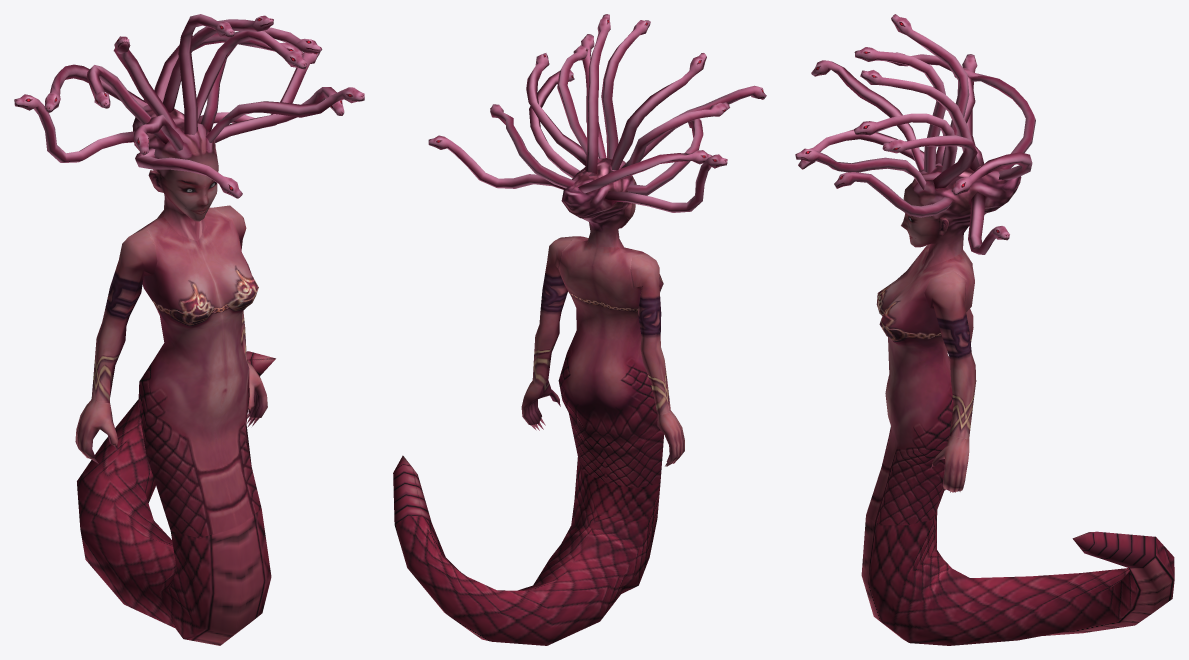
Rendered from Medusa.fbx.
3 views of the same model, side by side, from view 1: azimuth 30°, elevation 25°; view 2: azimuth 150°, elevation 25°; view 3: azimuth 270°, elevation 25° (orthographic). The views are drawn at different scales.
Parts seen in each view (by area): view 1: Body; view 2: Body; view 3: Body.
Boxes of the visible parts, left/top/right/bottom form: Body: left=14, top=14, right=364, bottom=645; Body: left=393, top=14, right=766, bottom=645; Body: left=795, top=14, right=1174, bottom=645.
Bounding box in the file's own units: 897 × 1701 × 996.
1 material, 1 textured.
